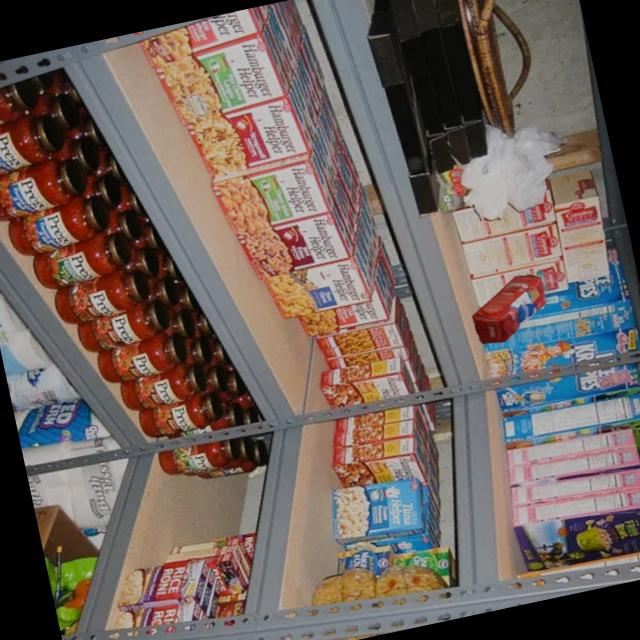mate bag: (462, 270, 560, 348)
